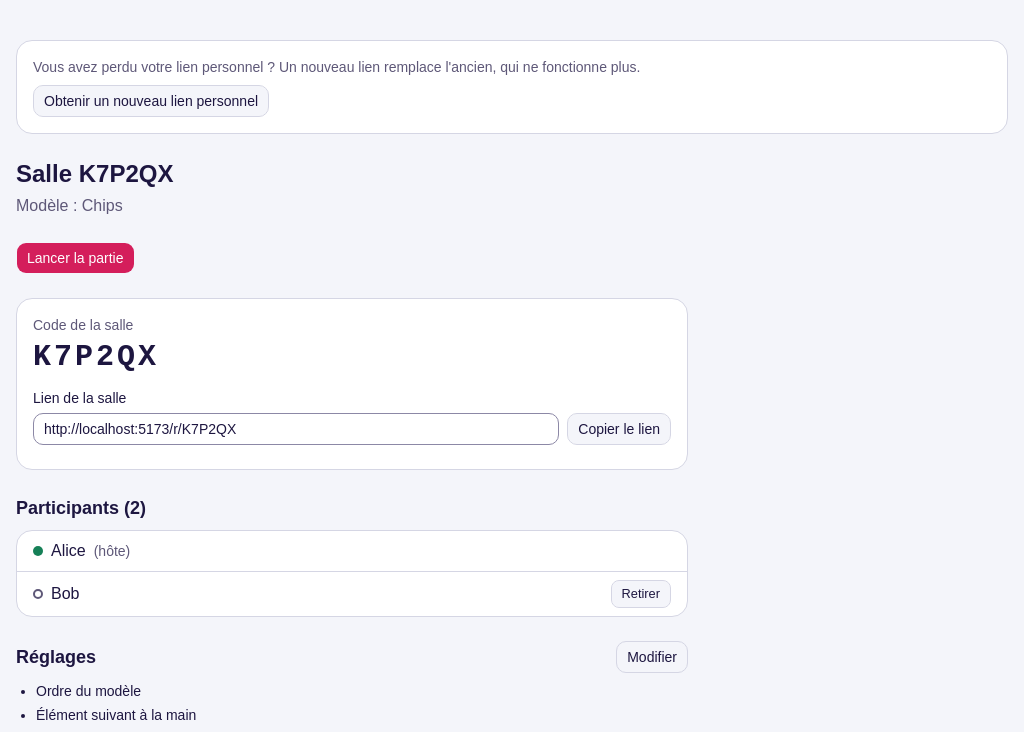
Test: StartGameButton › starts the game and shows the first item
The image size is (1024, 732).
Step 1. Click the button "Lancer la partie" → [75, 258], box [16,242,134,274]
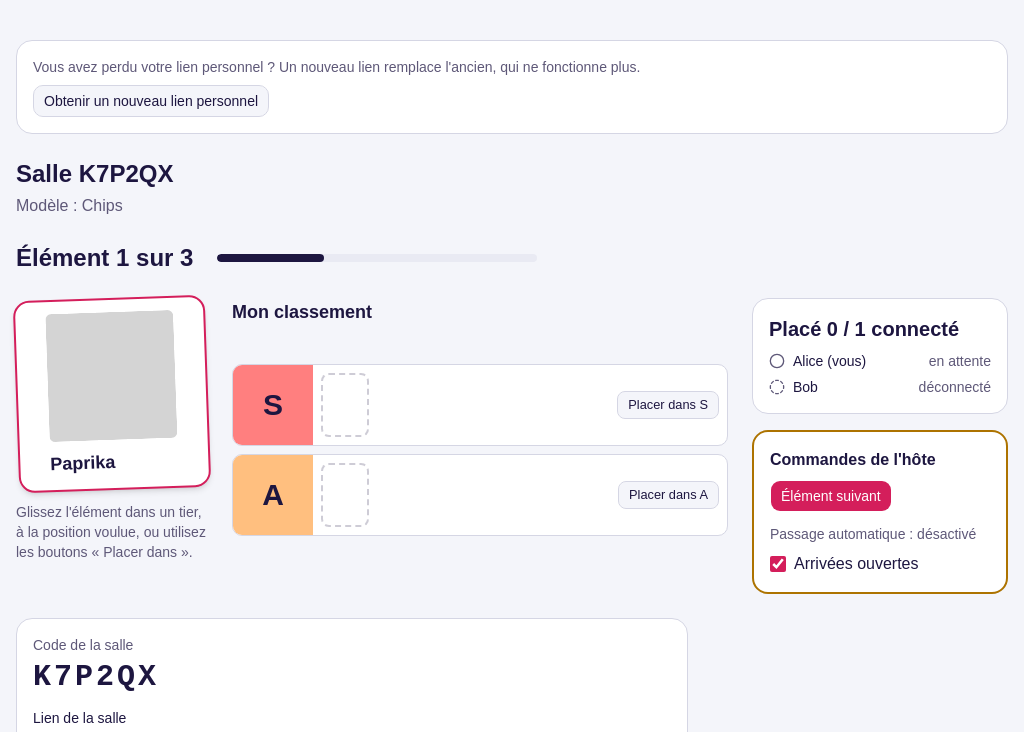
Check: the text "Élément 1 sur 3" is shown, box [16,242,193,274]
Check: the text "Paprika" is shown, box [50,448,116,478]
Check: the button "Lancer la partie" is gone
